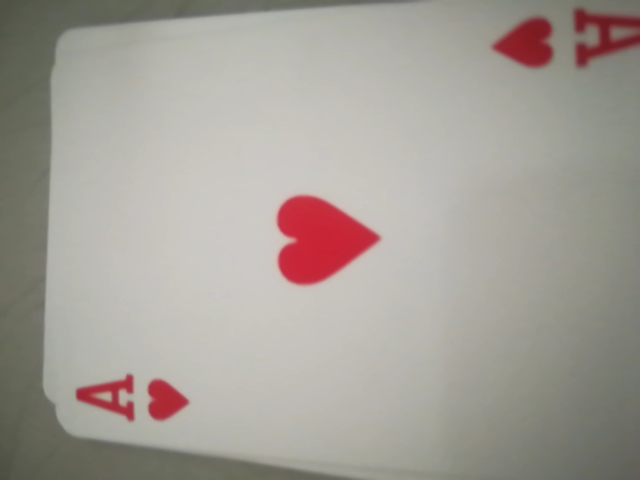hx a: (483, 0, 640, 87), (64, 356, 205, 439)
